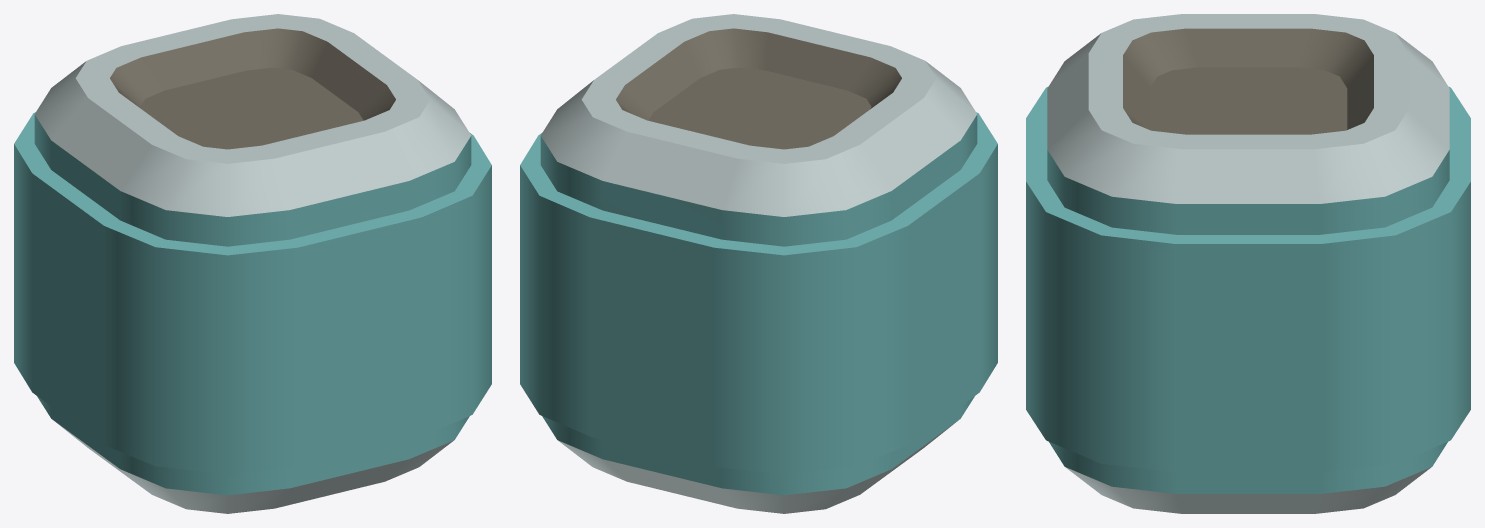
Rendered from resource1.fbx.
The picture shows the model from 3 angles, left to right: view 1: azimuth 30°, elevation 25°; view 2: azimuth 150°, elevation 25°; view 3: azimuth 270°, elevation 25°; orthographic projection. The views are drawn at different scales.
Visible parts, largest first — view 1: resource.001, resource.002, resource; view 2: resource.001, resource.002, resource; view 3: resource.001, resource.002, resource.
Part boxes in pixels (<box>): resource.001: <box>14,144,491,474</box>; resource.002: <box>14,14,491,255</box>; resource: <box>37,396,469,513</box>; resource.001: <box>520,144,997,474</box>; resource.002: <box>520,14,997,255</box>; resource: <box>542,396,974,513</box>; resource.001: <box>1026,182,1470,472</box>; resource.002: <box>1026,14,1470,243</box>; resource: <box>1049,442,1447,513</box>.
Size of the model in its own units: 0.9358 by 0.8465 by 0.9358.
